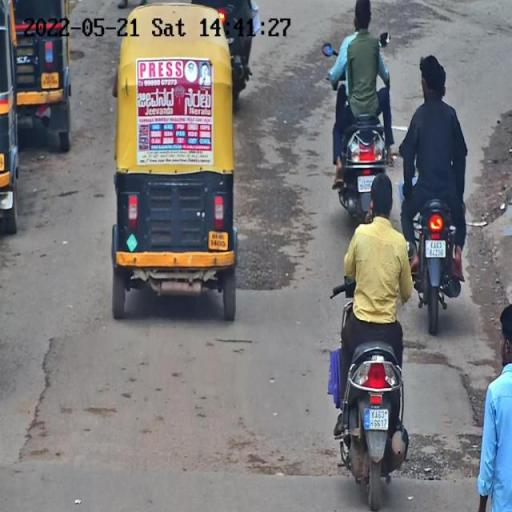numberplate: (362, 408, 389, 433)
using mobile: (365, 196, 375, 226)
